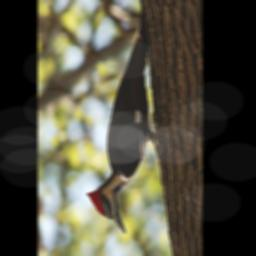Woodpecker: (86, 0, 168, 235)
